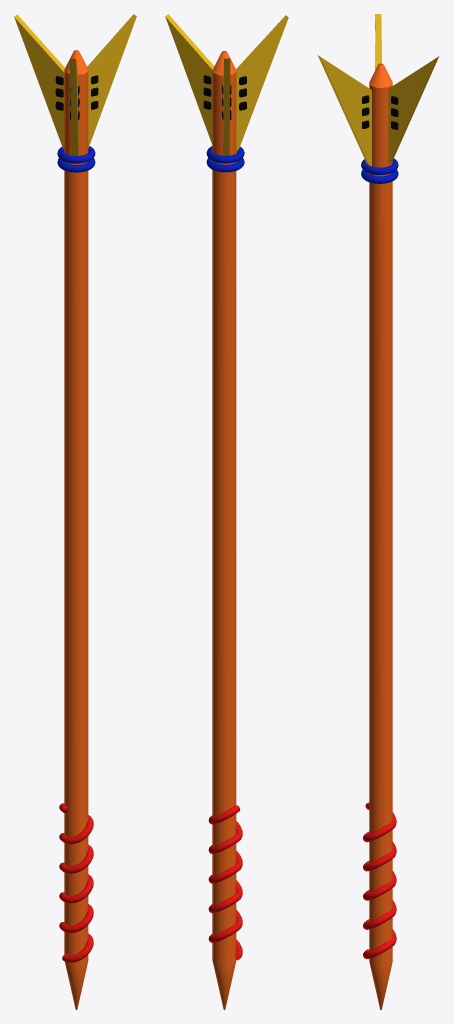
The model's file is atış oku .fbx.
The picture shows the model from 3 angles, left to right: view 1: azimuth 30°, elevation 25°; view 2: azimuth 150°, elevation 25°; view 3: azimuth 330°, elevation 25°; orthographic projection.
Parts seen in each view (by area): view 1: Cylinder, Plane.002, Plane.001, Plane, Torus, Torus.014, Torus.003, Torus.006, Torus.005, Torus.012, Torus.001; view 2: Cylinder, Plane, Plane.001, Plane.002, Torus, Torus.001; view 3: Cylinder, Plane, Plane.001, Plane.002, Torus, Torus.001.
Part boxes in pixels (left/top/right/bottom): Cylinder: left=64, top=50, right=88, bottom=1009; Plane.002: left=14, top=14, right=64, bottom=149; Plane.001: left=87, top=14, right=136, bottom=148; Plane: left=69, top=58, right=78, bottom=155; Torus: left=57, top=146, right=95, bottom=163; Torus.014: left=62, top=815, right=93, bottom=844; Torus.003: left=62, top=904, right=93, bottom=933; Torus.006: left=62, top=934, right=93, bottom=962; Torus.005: left=62, top=874, right=93, bottom=903; Torus.012: left=62, top=845, right=93, bottom=873; Torus.001: left=57, top=158, right=95, bottom=172; Cylinder: left=212, top=51, right=236, bottom=1009; Plane: left=236, top=15, right=288, bottom=153; Plane.001: left=165, top=14, right=214, bottom=144; Plane.002: left=223, top=58, right=230, bottom=155; Torus: left=206, top=146, right=244, bottom=163; Torus.001: left=206, top=158, right=244, bottom=172; Cylinder: left=369, top=63, right=392, bottom=1009; Plane: left=317, top=55, right=371, bottom=166; Plane.001: left=388, top=56, right=439, bottom=164; Plane.002: left=375, top=14, right=381, bottom=69; Torus: left=361, top=158, right=398, bottom=174; Torus.001: left=361, top=169, right=398, bottom=183.
Bounding box in the file's own units: 28.08 × 280 × 31.24.
